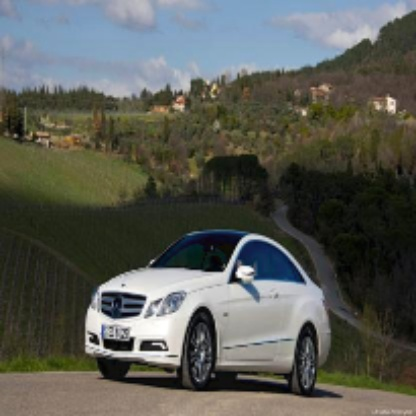Vehicle: (84, 228, 333, 399)
